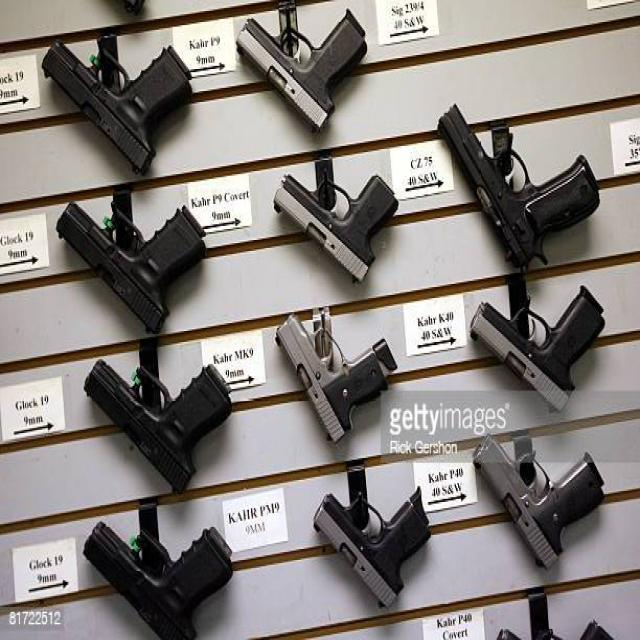HandGun: (438, 105, 597, 271), (55, 205, 207, 337), (42, 45, 193, 171), (86, 365, 233, 494), (84, 527, 234, 640), (471, 289, 605, 409), (477, 444, 607, 566), (238, 9, 368, 130), (278, 317, 397, 441), (313, 489, 431, 610), (274, 177, 398, 281)
